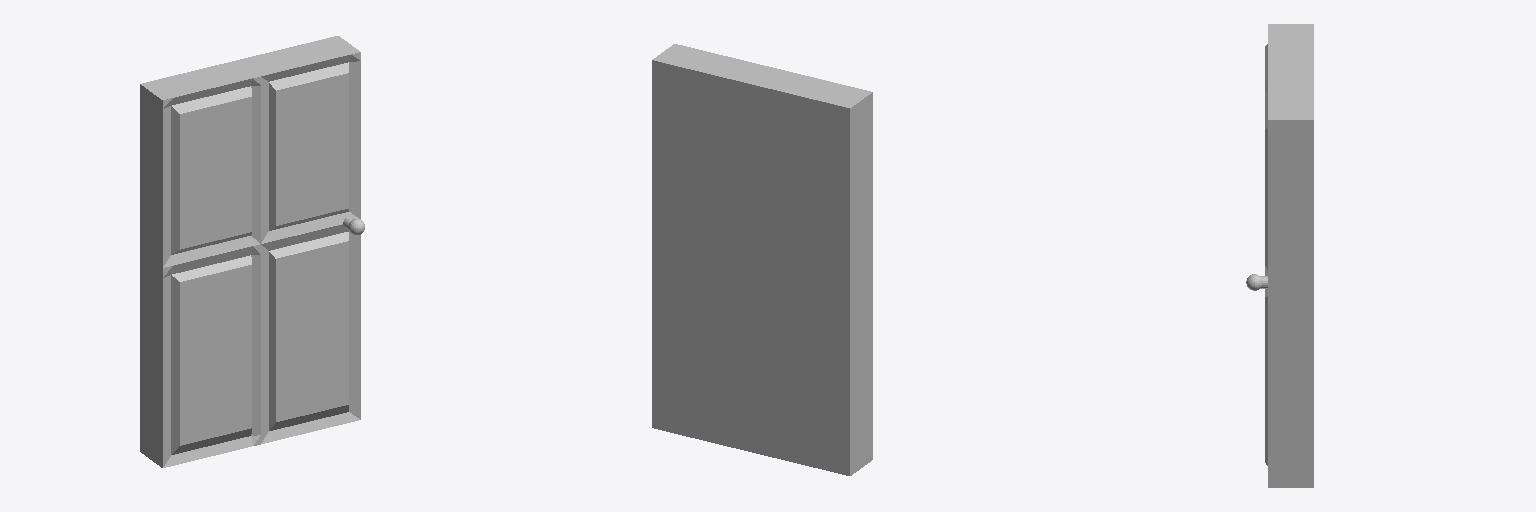
File: door.obj
3 views of the same model, side by side, from view 1: azimuth 30°, elevation 25°; view 2: azimuth 150°, elevation 25°; view 3: azimuth 270°, elevation 25° (orthographic).
Visible parts, largest first — view 1: polySurface1; view 2: polySurface1; view 3: polySurface1.
Boxes of the visible parts, x1=… form: polySurface1: x1=140, y1=36, x2=364, y2=467; polySurface1: x1=652, y1=44, x2=872, y2=475; polySurface1: x1=1246, y1=24, x2=1313, y2=487.
Size of the model in its own units: 1.6 by 2.84 by 0.4707.